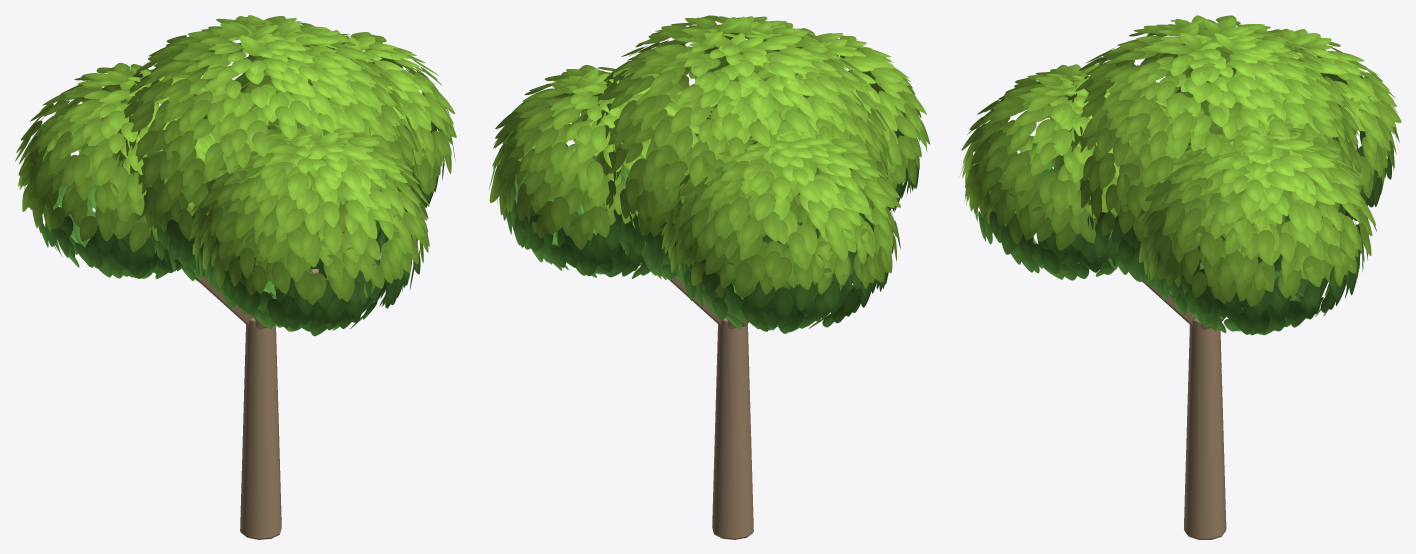
Rendered from park_tree.glb.
3 renders of one model, left to right at view 1: azimuth 30°, elevation 25°; view 2: azimuth 150°, elevation 25°; view 3: azimuth 270°, elevation 25°, orthographic.
Parts seen in each view (by area): view 1: foliage, trunk; view 2: foliage, trunk; view 3: foliage, trunk.
Part boxes in pixels (bbox=[...]): foliage: bbox=[15, 15, 456, 336]; trunk: bbox=[195, 268, 319, 539]; foliage: bbox=[488, 15, 930, 333]; trunk: bbox=[669, 277, 753, 539]; foliage: bbox=[959, 15, 1401, 335]; trunk: bbox=[1142, 280, 1226, 539].
Size of the model in its own units: 5.2 by 6.24 by 4.97.
3 materials, 2 textured.
